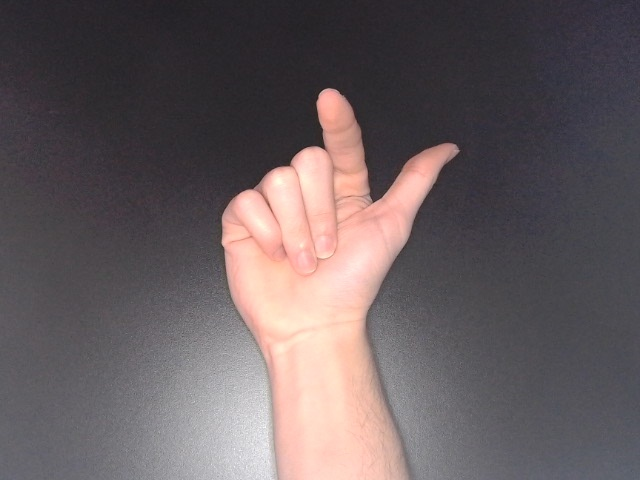t: (215, 84, 465, 362)
